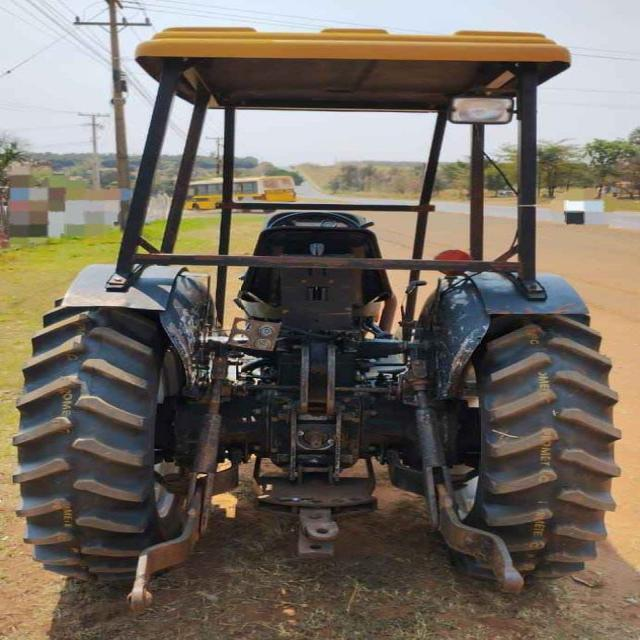Tratores - v5 YOLO V8L 2024-11-13: (10, 24, 611, 604)
